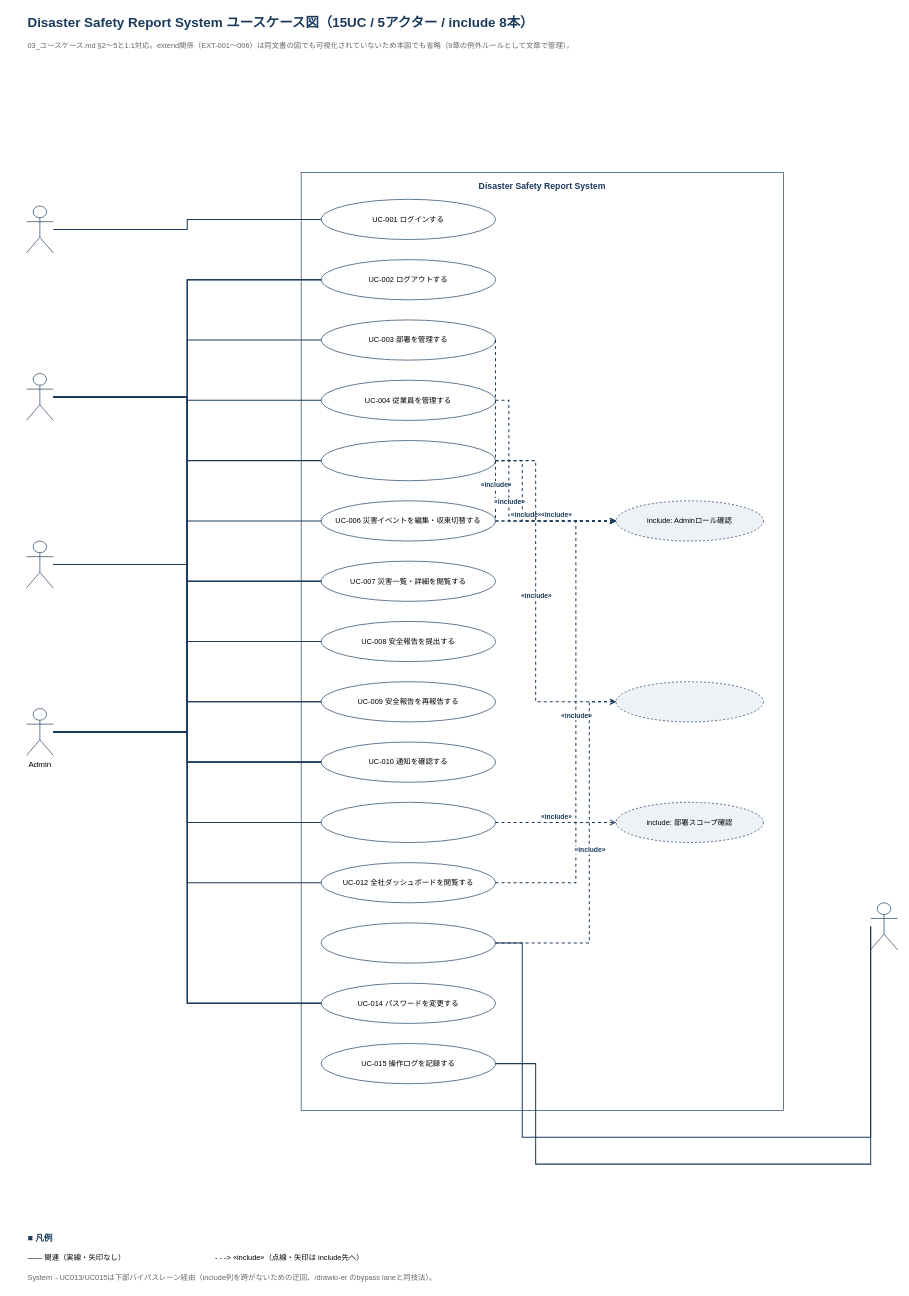
This 909x1296 diagram has some shape labels left out. Each missing label, with the centre of its shape:
include: 同報通知作成: the point at 689,701
System: the point at 883,926
UC-005 災害イベントを作成する: the point at 408,460
UC-011 部署ダッシュボードを閲覧する: the point at 408,822
UC-013 未報告者へ催促通知を送る: the point at 408,942
一般社員: the point at 39,396
未認証ユーザー: the point at 39,229
部門管理者: the point at 39,564
